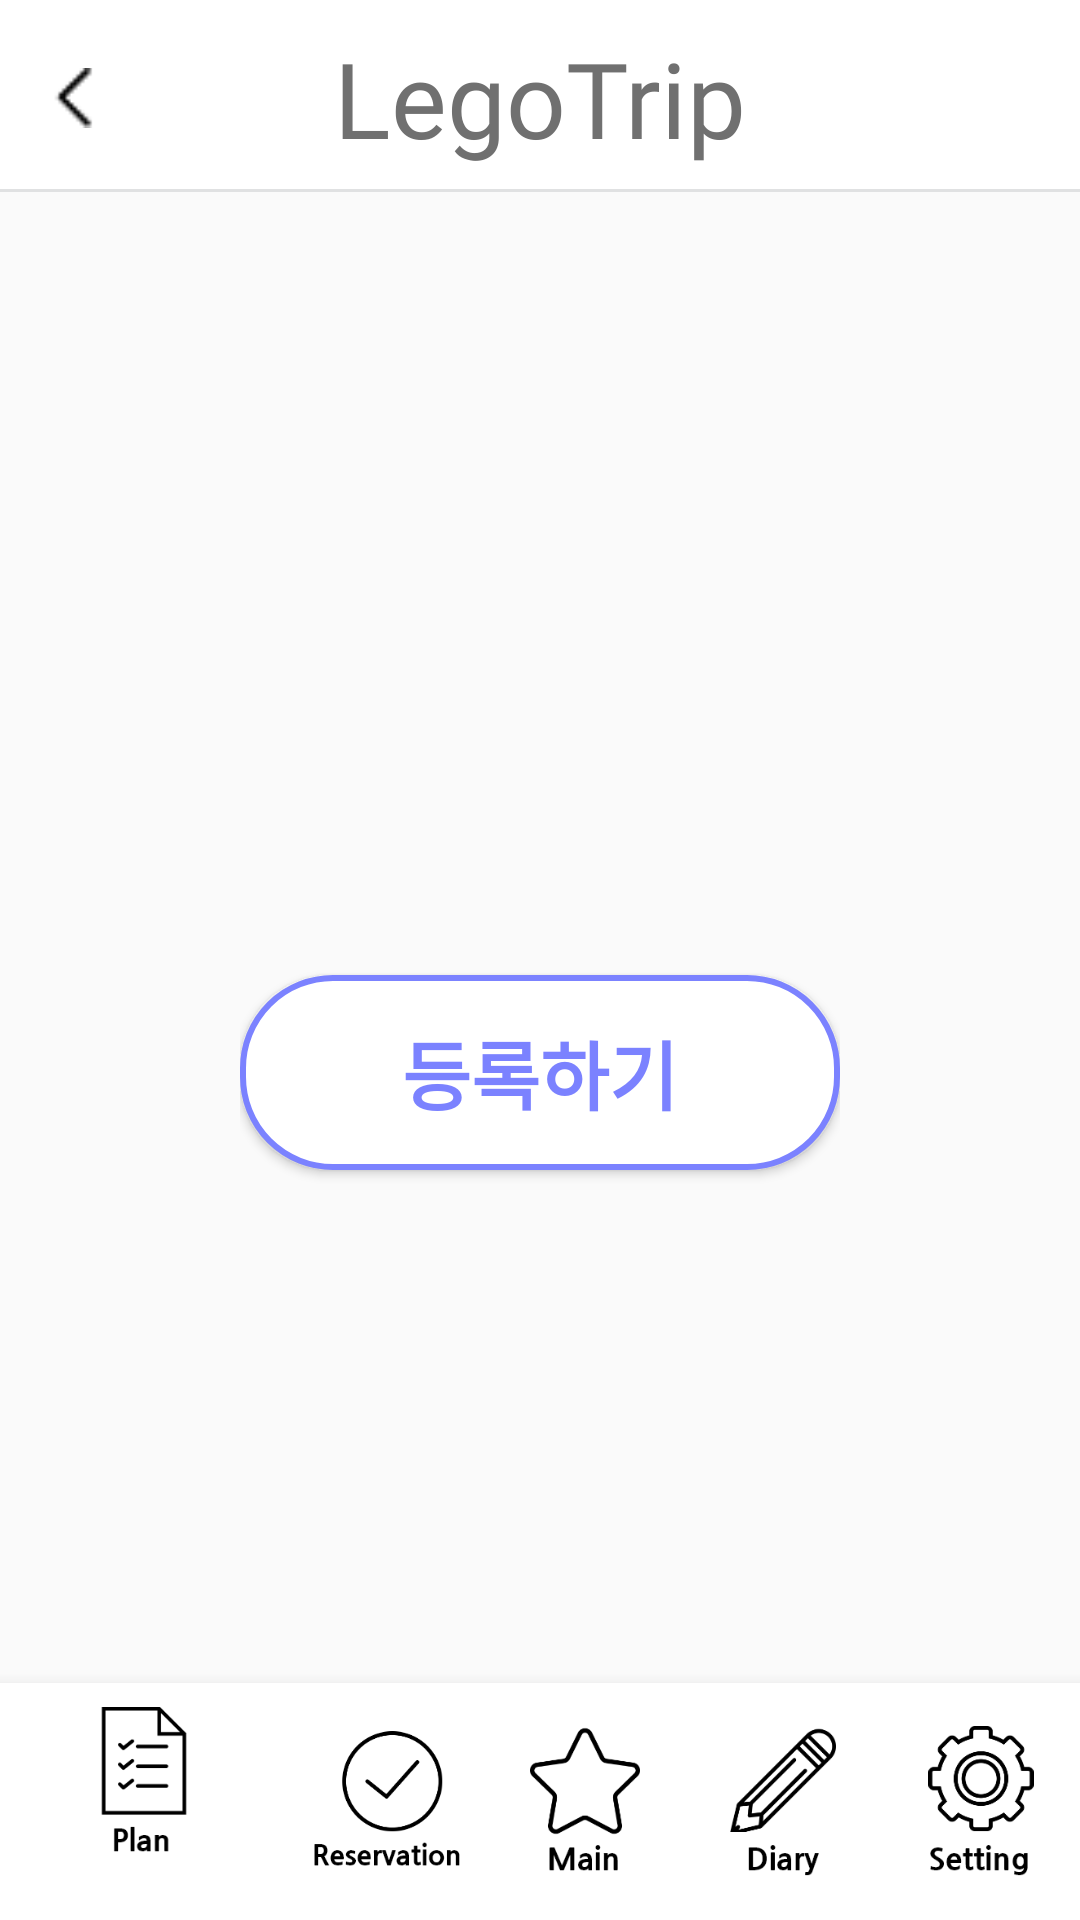

Where icons sit on this 1080px×1920px app screen, as (x1, y1, x2, y2):
back: (56, 68, 92, 128)
